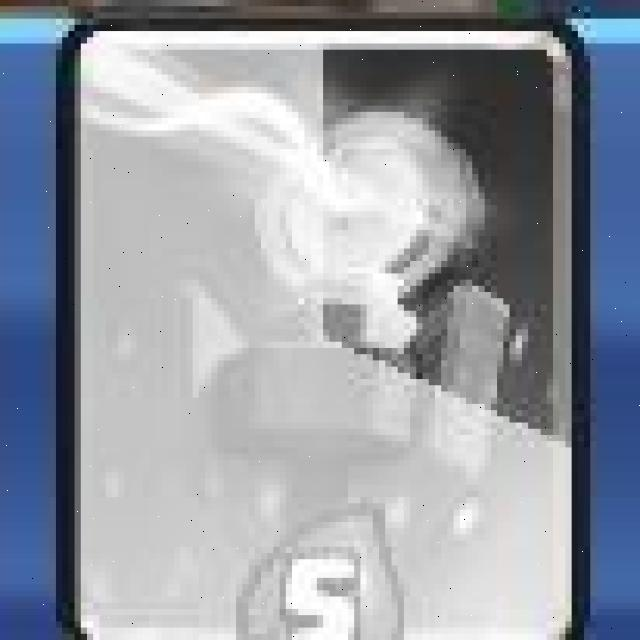Inferno_Tower: (54, 17, 587, 640)
